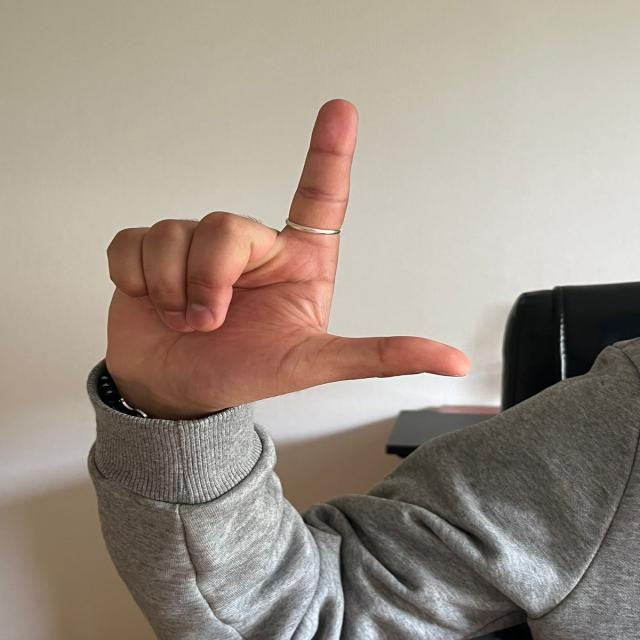L: (89, 82, 475, 415)
